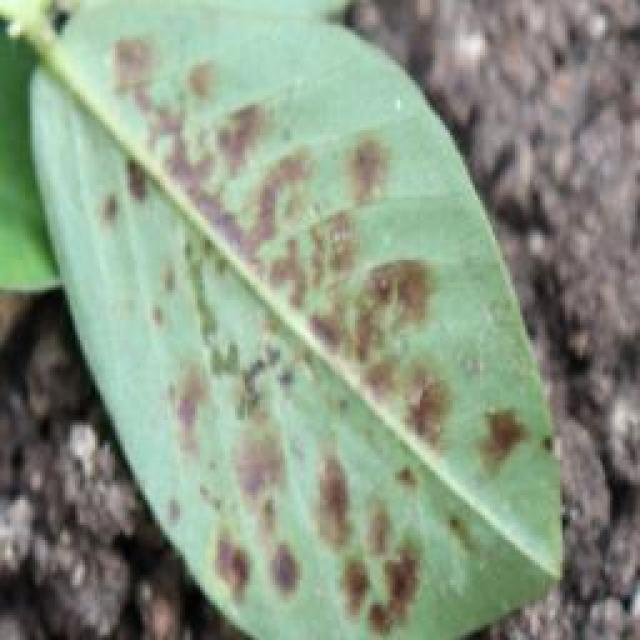Whitefly: (22, 5, 536, 620)
